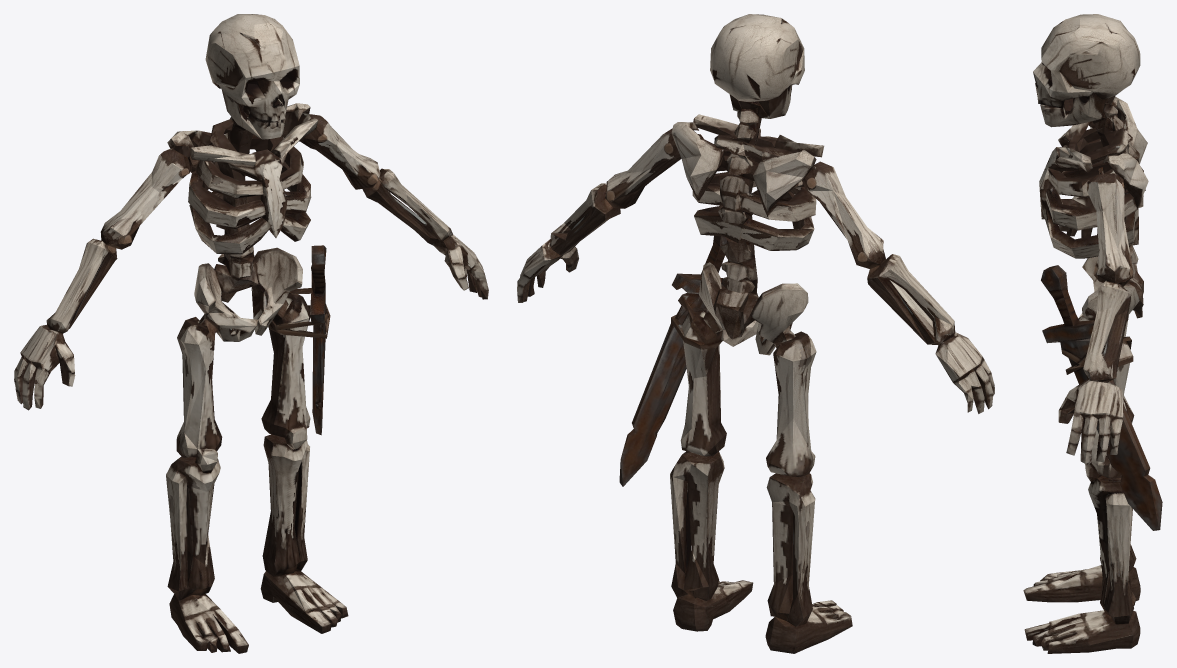
The model's file is INS_Skeleton.glb.
3 renders of one model, left to right at view 1: azimuth 30°, elevation 25°; view 2: azimuth 150°, elevation 25°; view 3: azimuth 270°, elevation 25°, orthographic.
Bounding box in the file's own units: 1.54 × 1.9 × 0.3994.
Materials: 1 (1 with a texture image).
